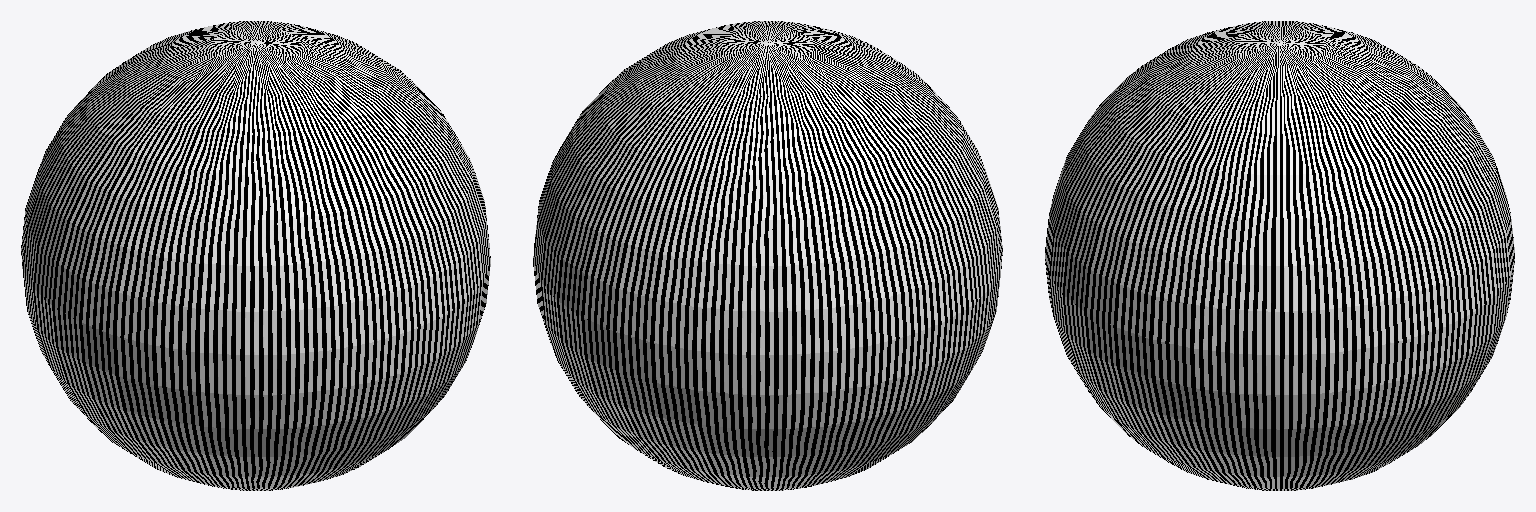
3 views of the same model, side by side, from view 1: azimuth 30°, elevation 25°; view 2: azimuth 150°, elevation 25°; view 3: azimuth 270°, elevation 25° (orthographic).
Visible parts, largest first — view 1: Sphere; view 2: Sphere; view 3: Sphere.
Boxes of the visible parts, x1,y1,x2,y2 form: Sphere: [21, 21, 490, 490]; Sphere: [533, 21, 1002, 490]; Sphere: [1045, 21, 1514, 490].
Size of the model in its own units: 0.9233 by 0.9233 by 0.9233.
1 materials, 1 textured.